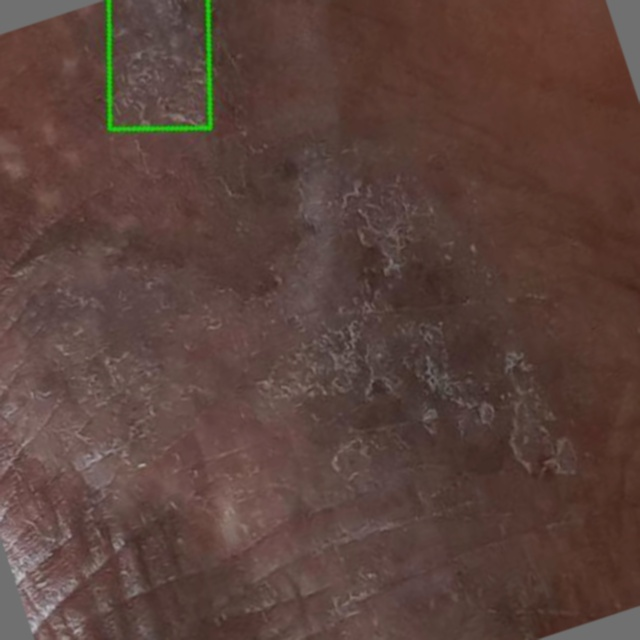Eczema: (109, 0, 210, 128)
